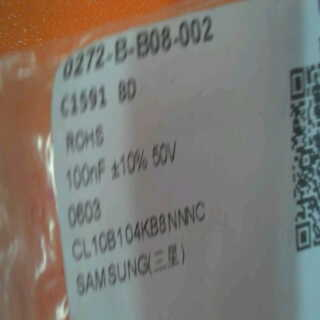100nF: (65, 154, 110, 194)
